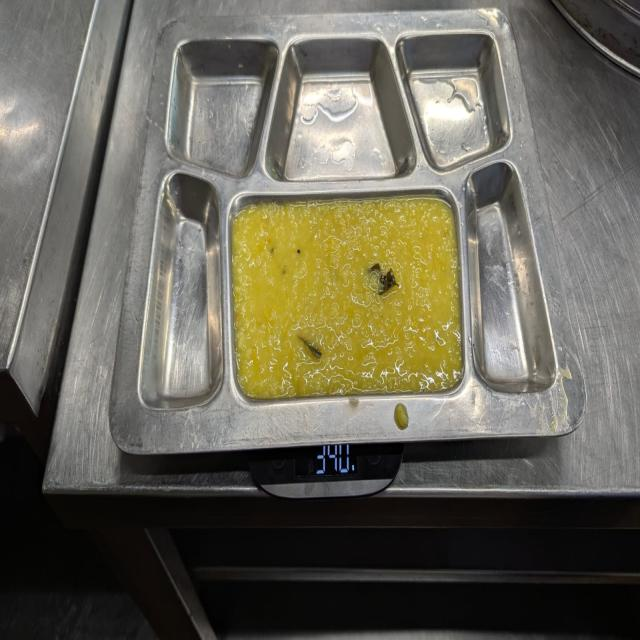Khichdi: (237, 205, 453, 387)
